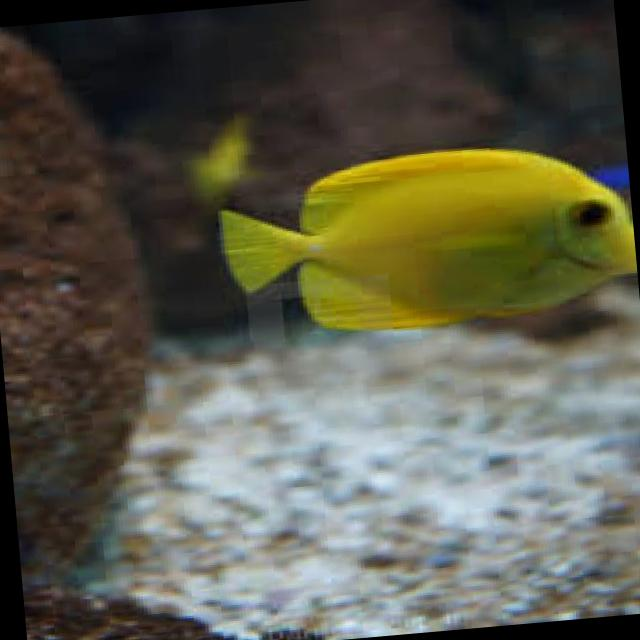TangFish: (209, 129, 640, 348)
